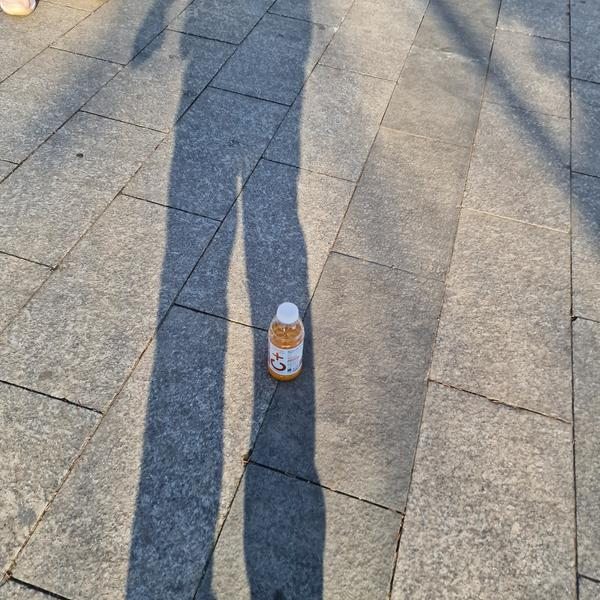plastic_bottle: (267, 301, 305, 382)
